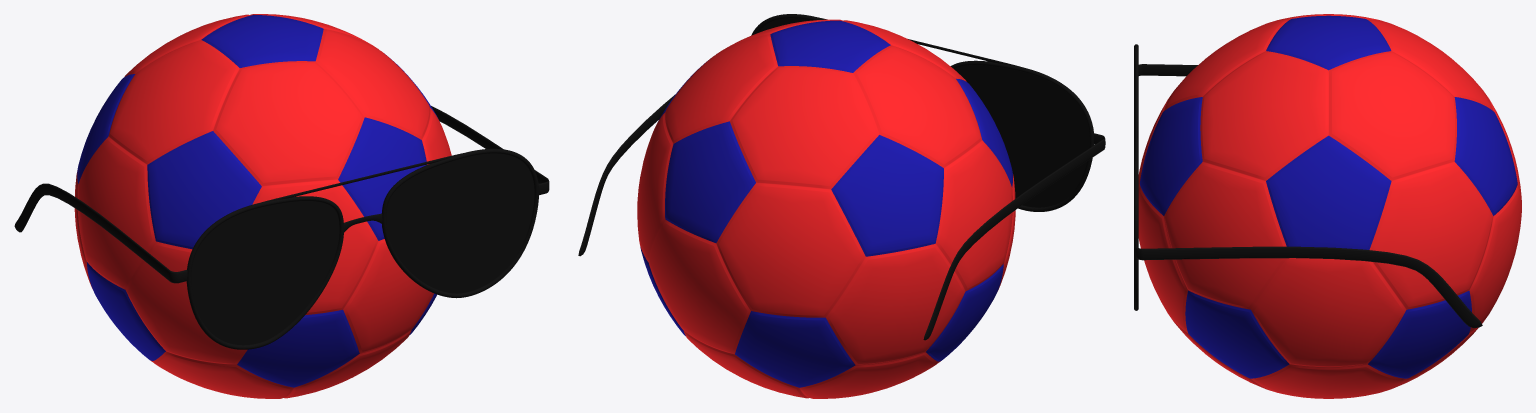
File: Baloneu.glb
3 views of the same model, side by side, from view 1: azimuth 30°, elevation 25°; view 2: azimuth 150°, elevation 25°; view 3: azimuth 270°, elevation 25° (orthographic).
Parts seen in each view (by area): view 1: Esfera geodésica, Círculo Bezier, Círculo Bezier.001, Cubo.002, Cubo.003, Cubo.001; view 2: Esfera geodésica, Círculo Bezier, Cubo.002, Cubo.003, Círculo Bezier.001; view 3: Esfera geodésica, Cubo.003, Círculo Bezier.001, Cubo.002, Círculo Bezier.
Boxes of the visible parts, x1,y1,x2,y2 form: Esfera geodésica: (74, 14, 451, 398); Círculo Bezier: (186, 196, 343, 349); Círculo Bezier.001: (381, 148, 538, 298); Cubo.002: (14, 183, 187, 283); Cubo.003: (431, 106, 549, 195); Cubo.001: (252, 151, 473, 205); Esfera geodésica: (637, 19, 1015, 398); Círculo Bezier: (950, 60, 1094, 211); Cubo.002: (923, 133, 1105, 340); Cubo.003: (578, 95, 674, 256); Círculo Bezier.001: (751, 14, 823, 35); Esfera geodésica: (1138, 14, 1521, 398); Cubo.003: (1135, 243, 1482, 327); Círculo Bezier.001: (1134, 137, 1138, 310); Cubo.002: (1138, 64, 1197, 76); Círculo Bezier: (1134, 44, 1138, 138).
Bounding box in the file's own units: 2 × 1.75 × 1.76.
